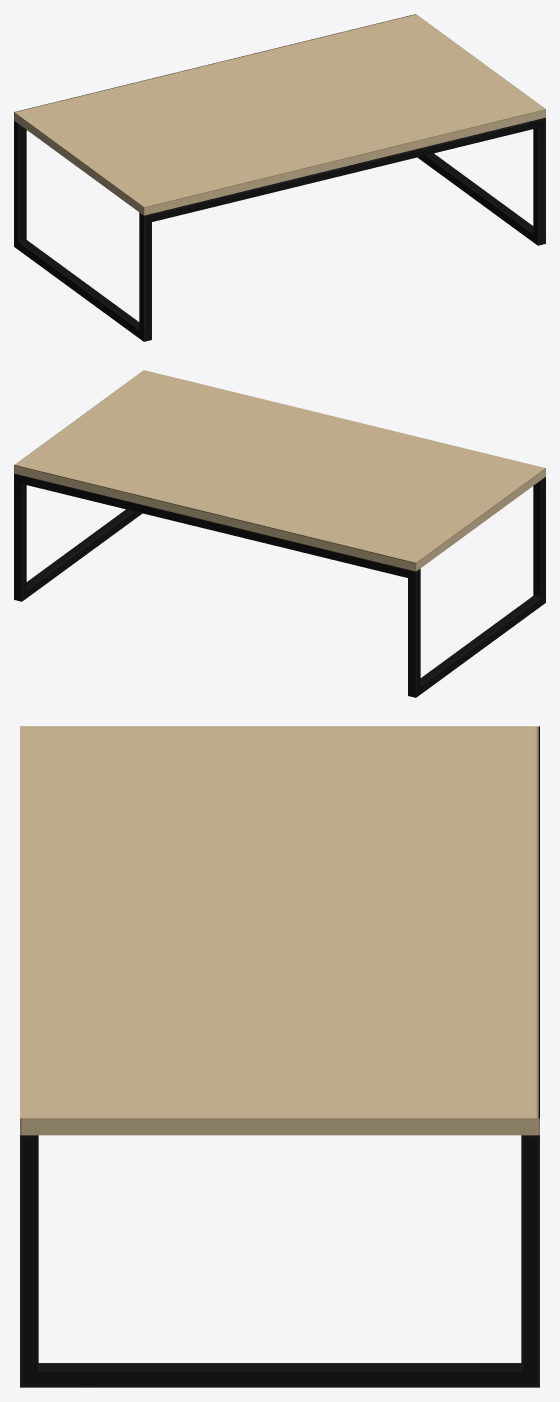
File: Mesa.FBX
3 views of the same model, one above another, from view 1: azimuth 30°, elevation 25°; view 2: azimuth 150°, elevation 25°; view 3: azimuth 270°, elevation 25° (orthographic). The views are drawn at different scales.
Parts seen in each view (by area): view 1: CoffeeTable01; view 2: CoffeeTable01; view 3: CoffeeTable01.
Boxes of the visible parts, x1,y1,x2,y2 form: CoffeeTable01: (14, 14, 545, 341); CoffeeTable01: (14, 370, 545, 697); CoffeeTable01: (20, 726, 539, 1387).
Size of the model in its own units: 50 by 28 by 16.
1 material, 1 textured.
